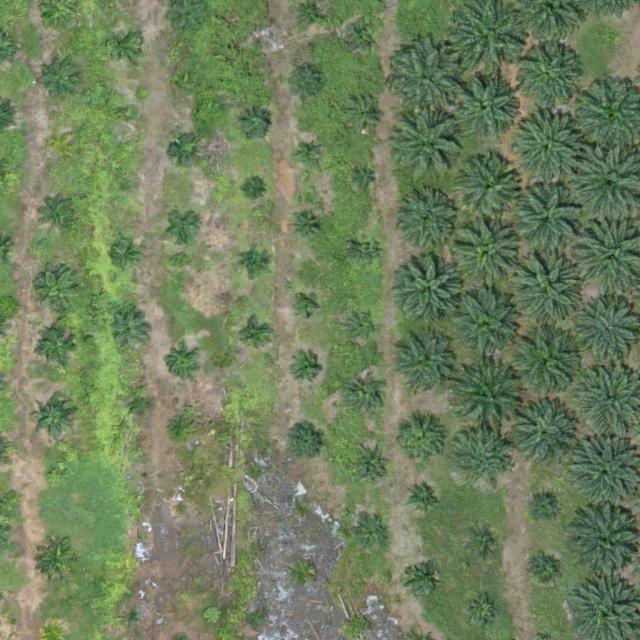Healthy: (508, 249, 586, 328), (510, 111, 581, 182), (510, 184, 580, 255), (512, 330, 582, 401), (454, 365, 524, 436), (452, 292, 522, 363), (454, 219, 524, 290), (508, 399, 578, 470), (391, 44, 461, 114), (397, 110, 467, 180), (455, 75, 517, 138), (459, 155, 521, 218), (399, 259, 462, 321), (392, 337, 454, 400), (517, 43, 579, 105), (402, 194, 457, 249), (455, 431, 510, 486)
Small: (393, 414, 447, 469), (31, 396, 78, 444), (352, 447, 392, 486), (38, 328, 77, 368), (39, 272, 79, 311), (41, 60, 80, 100), (287, 63, 326, 103), (407, 479, 446, 519), (349, 378, 388, 417), (111, 311, 150, 350), (287, 421, 326, 460), (38, 541, 77, 580), (43, 196, 82, 235), (238, 319, 269, 351), (291, 353, 322, 385), (349, 99, 380, 131), (109, 29, 140, 61), (238, 107, 269, 139), (125, 390, 156, 422), (163, 412, 194, 444), (357, 521, 388, 552), (405, 561, 436, 592), (352, 236, 383, 267), (240, 246, 271, 277), (170, 212, 201, 243), (111, 239, 142, 270), (166, 348, 197, 379), (171, 137, 202, 168), (468, 596, 499, 627), (469, 528, 500, 559), (349, 20, 380, 51), (293, 139, 324, 170), (345, 310, 376, 341), (293, 210, 324, 241), (530, 491, 561, 522), (530, 556, 561, 587), (175, 72, 199, 96), (295, 294, 319, 318), (121, 607, 144, 631), (172, 501, 188, 517), (252, 30, 268, 45), (356, 173, 372, 188), (245, 182, 261, 197), (120, 177, 135, 193), (54, 139, 70, 154), (120, 105, 135, 120), (48, 468, 63, 483)
